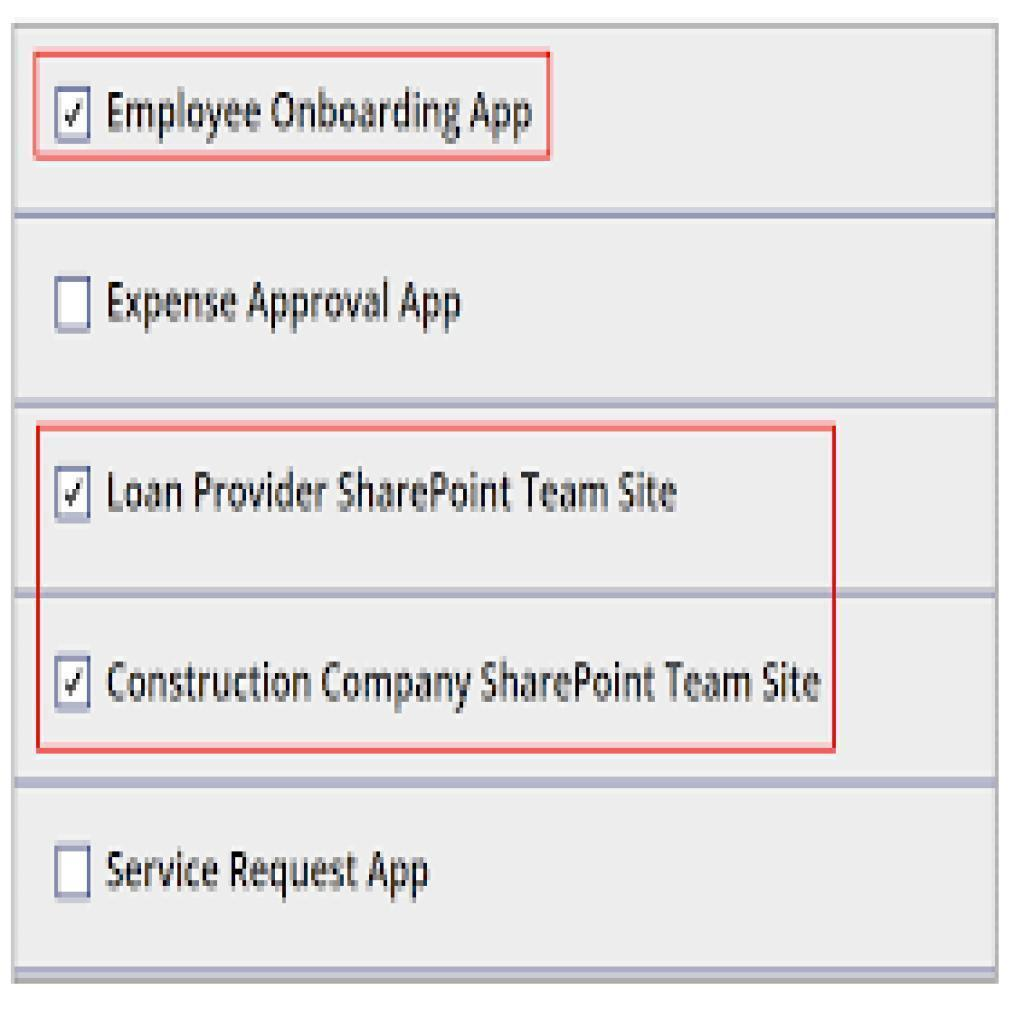checkbox: (54, 275, 91, 335), (53, 843, 91, 901), (53, 654, 91, 710), (55, 465, 92, 522), (55, 86, 91, 143)
label: (101, 654, 823, 708), (101, 467, 681, 519), (103, 87, 538, 145), (101, 274, 469, 340), (106, 844, 431, 905)
